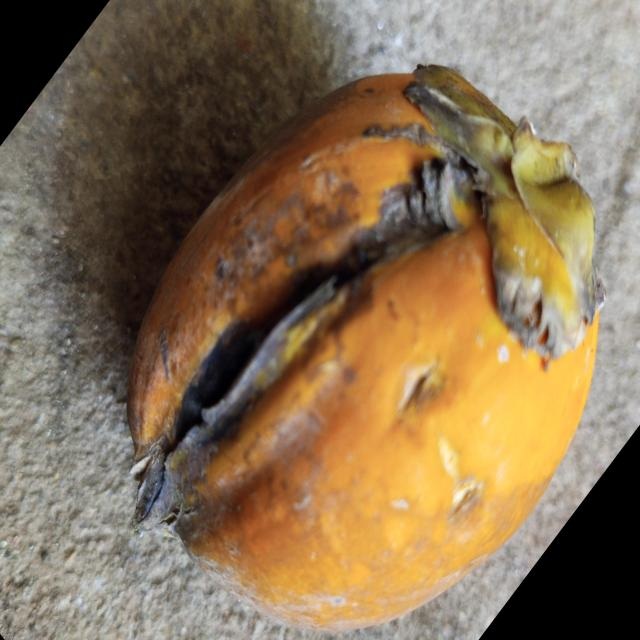damaged: (128, 66, 603, 628)
